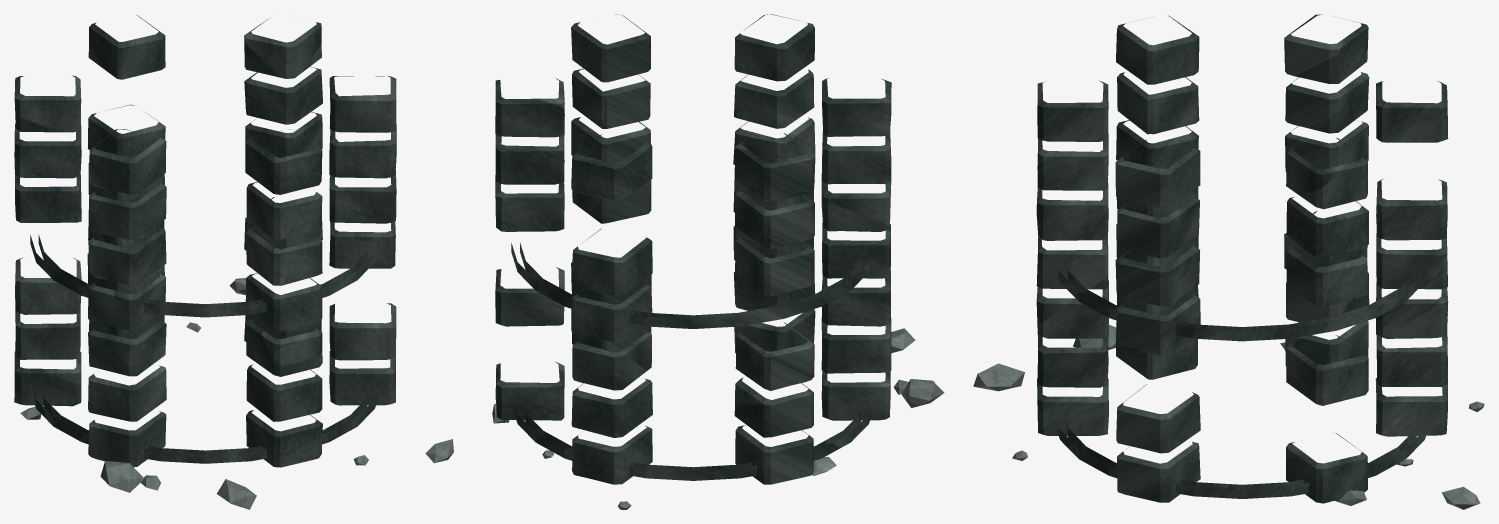
The model's file is 0412_ruined_tower_12.glb.
3 renders of one model, left to right at view 1: azimuth 30°, elevation 25°; view 2: azimuth 150°, elevation 25°; view 3: azimuth 270°, elevation 25°, orthographic. The views are drawn at different scales.
Parts seen in each view (by area): view 1: stone_dark, stone; view 2: stone_dark, stone; view 3: stone_dark, stone.
Part boxes in pixels (x1,y1,x2,y2): stone_dark: [14, 15, 396, 467]; stone: [20, 278, 368, 509]; stone_dark: [495, 14, 891, 484]; stone: [425, 328, 944, 509]; stone_dark: [1036, 14, 1448, 503]; stone: [973, 324, 1484, 509].
Size of the model in its own units: 3.11 by 2.93 by 3.97.
2 materials, 2 textured.
